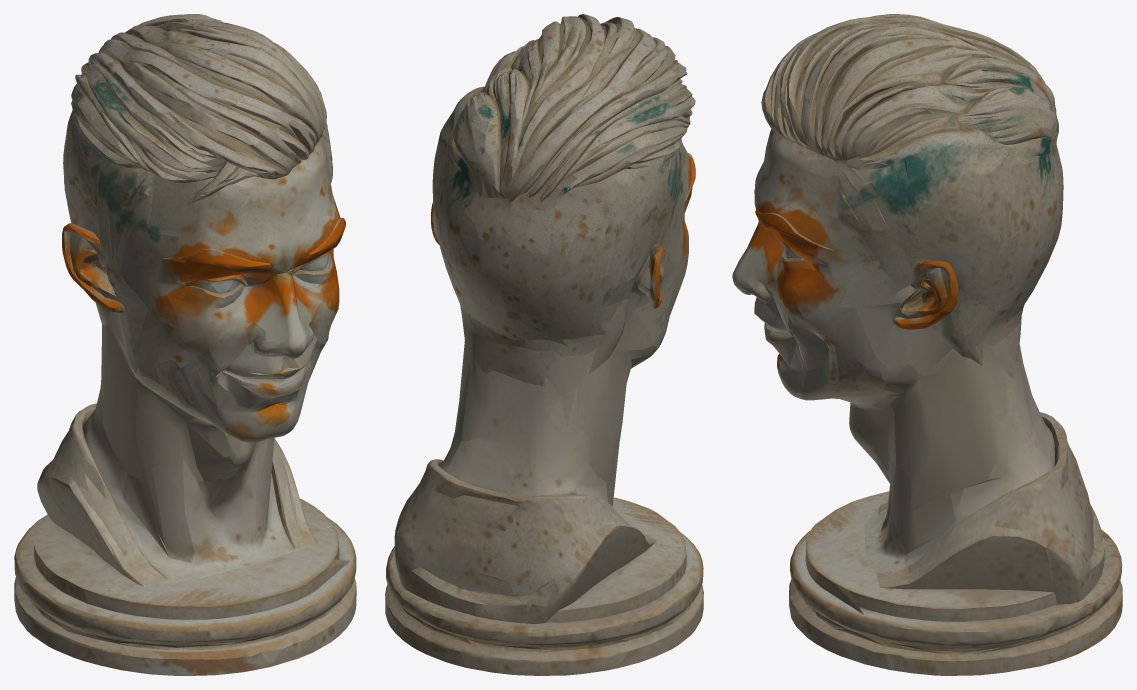
Rendered from ronaldo.glb.
The picture shows the model from 3 angles, left to right: view 1: azimuth 30°, elevation 25°; view 2: azimuth 150°, elevation 25°; view 3: azimuth 270°, elevation 25°; orthographic projection. The views are drawn at different scales.
Parts seen in each view (by area): view 1: Mesh_0.001; view 2: Mesh_0.001; view 3: Mesh_0.001.
Boxes of the visible parts, x1=… form: Mesh_0.001: x1=14, y1=14, x2=356, y2=675; Mesh_0.001: x1=385, y1=14, x2=703, y2=675; Mesh_0.001: x1=732, y1=14, x2=1122, y2=675.
Size of the model in its own units: 0.9907 by 1.9 by 1.17.
1 material, 1 textured.
